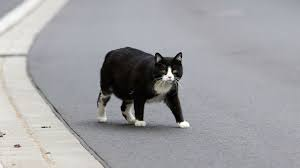cat: (95, 46, 192, 129)
